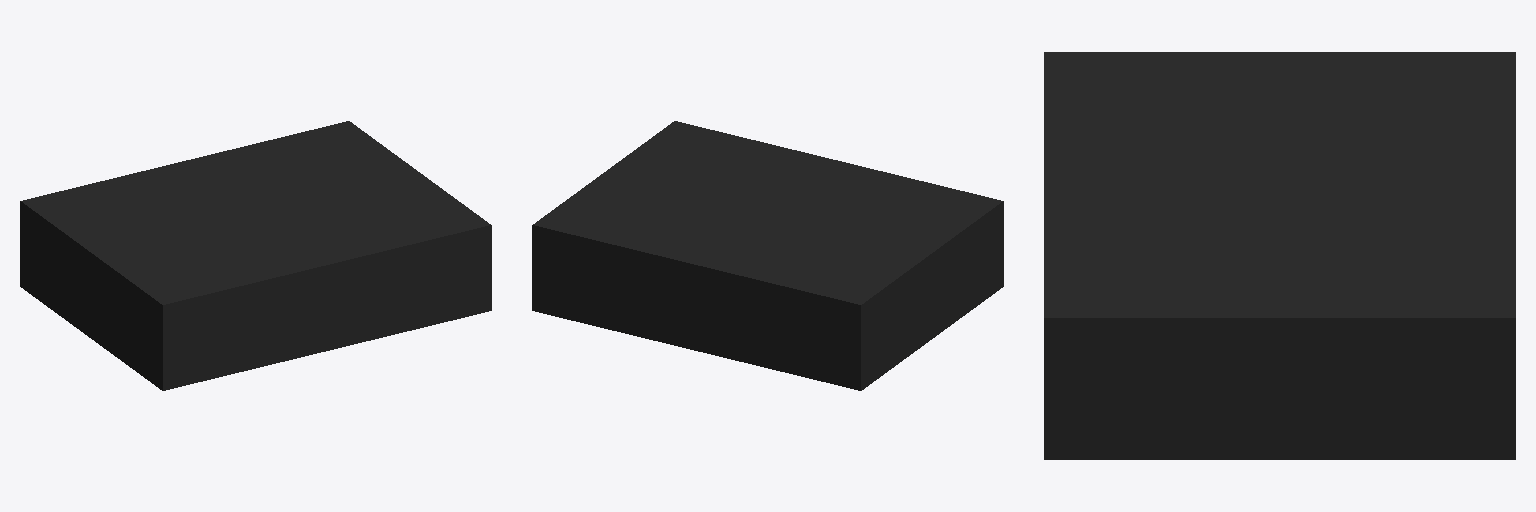
The robot description file, URDF, robot "q-saburo":
<?xml version="1.0" ?>
<robot name="q-saburo">
  <material name="grey">
    <color rgba="0.2 0.2 0.2 1.0"/>
  </material>

  <link name="base_link" />

  <joint name="body_joint" type="fixed">
    <origin xyz="-0.1 0.0 0.072" rpy="0.0 0.0 0.0"/>
    <parent link="base_link"/>
    <child link="body_link"/>
  </joint>

  <link name="body_link">
    <visual>
      <geometry>
        <box size="0.4 0.3 0.1"/>
      </geometry>
      <material name="grey"/>
    </visual>
    <collision>
      <geometry>
        <box size="0.4 0.3 0.1"/>
      </geometry>
    </collision>
    <inertial>
      <mass value="1.0"/>
      <inertia ixx="0.008333333" ixy="0.0" ixz="0.0" iyy="0.014166667" iyz="0.0" izz="0.020833333"/>
    </inertial>
  </link>
</robot>

--- Render facts (derived) ---
3 views of the same robot in one strip: view 1: azimuth 30°, elevation 25°; view 2: azimuth 150°, elevation 25°; view 3: azimuth 270°, elevation 25° (orthographic).
Model q-saburo with 2 links and 1 joints (1 fixed), rooted at base_link, posed every joint at zero.
Visible links, largest first — view 1: body_link; view 2: body_link; view 3: body_link.
Link boxes in pixels (box(x1,y1,x2,y2)): body_link: box(20, 121, 491, 390); body_link: box(532, 121, 1003, 390); body_link: box(1044, 52, 1515, 459).
Bounding box of the posed robot: 0.4 × 0.3 × 0.1 m (x, y, z).
Geometry: primitives only (box / cylinder / sphere), no mesh files.
